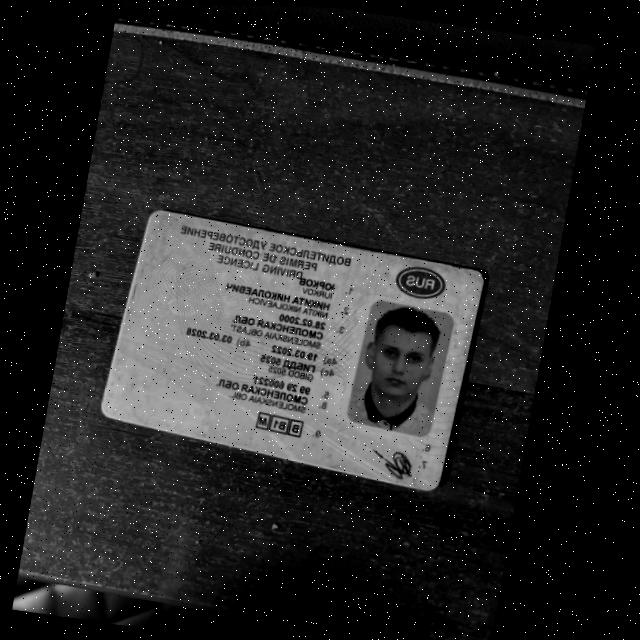card: (102, 211, 482, 489)
